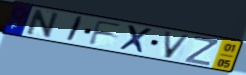F: (87, 19, 125, 46)
I: (64, 15, 86, 44)
N: (25, 8, 61, 39)
V: (163, 30, 193, 60)
X: (117, 24, 154, 56)
Z: (183, 35, 220, 67)
